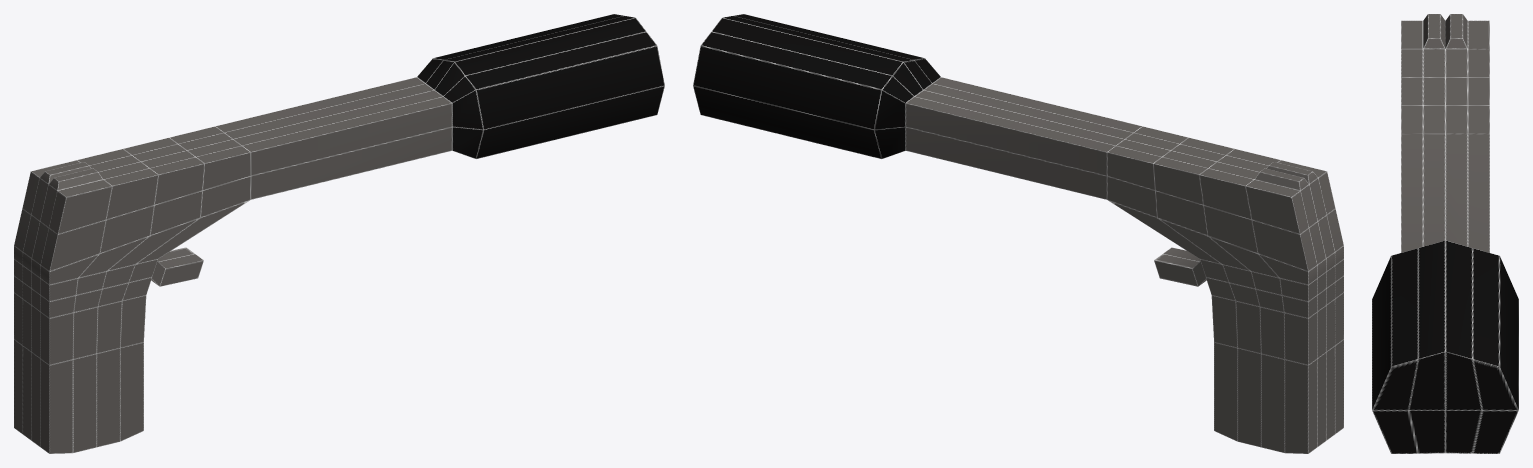
Rendered from sm_pistol.fbx.
3 renders of one model, left to right at view 1: azimuth 30°, elevation 25°; view 2: azimuth 150°, elevation 25°; view 3: azimuth 270°, elevation 25°, orthographic. The views are drawn at different scales.
Parts seen in each view (by area): view 1: Gun; view 2: Gun; view 3: Gun.
Boxes of the visible parts, bbox=[...] form: Gun: bbox=[14, 14, 664, 453]; Gun: bbox=[693, 14, 1343, 453]; Gun: bbox=[1372, 14, 1518, 453].
Bounding box in the file's own units: 18 × 8 × 3.01.
